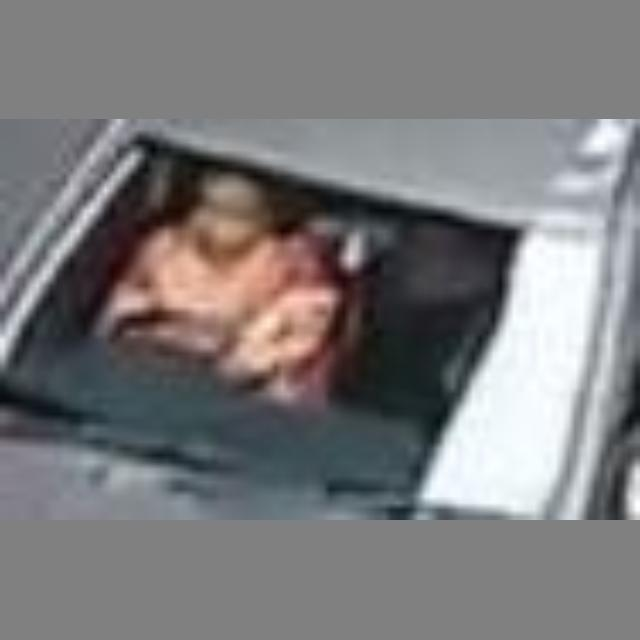tidak-pakai: (123, 201, 320, 378)
